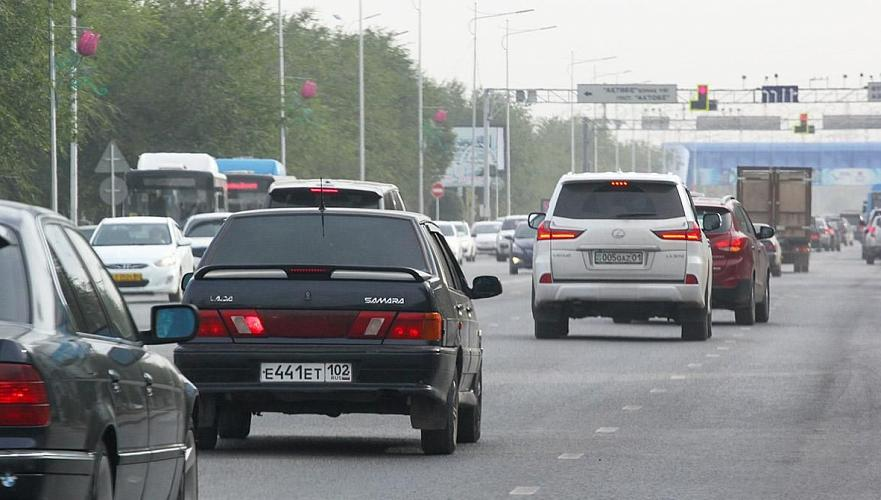number_plate: (258, 362, 355, 384), (593, 246, 645, 267)
